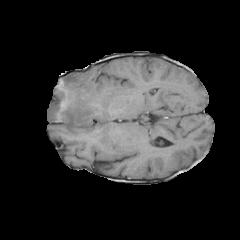glioma: (47, 73, 106, 130)
